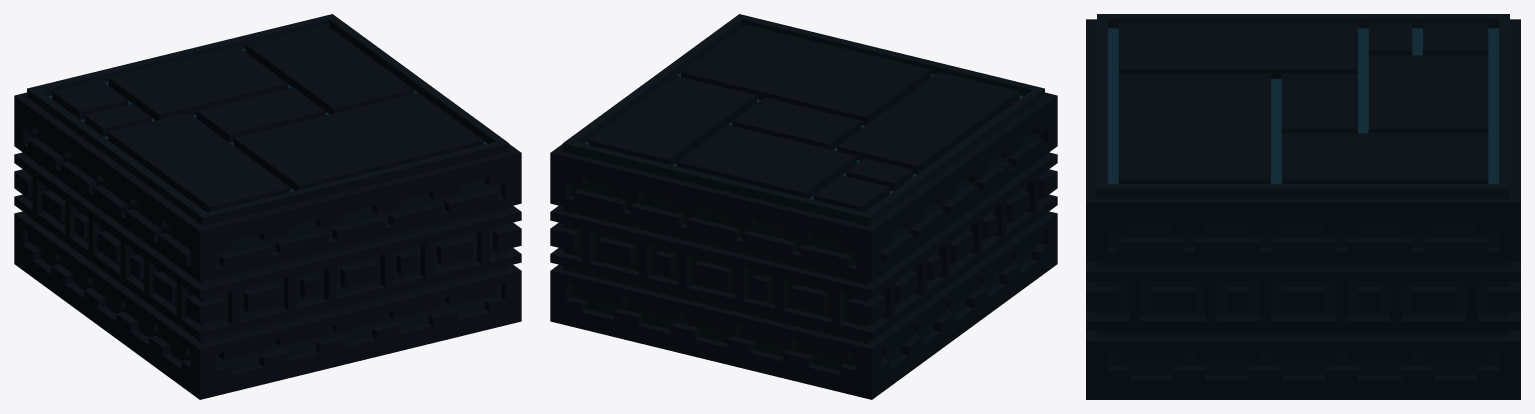
Rendered from Block_1.obj.
The picture shows the model from 3 angles, left to right: view 1: azimuth 30°, elevation 25°; view 2: azimuth 150°, elevation 25°; view 3: azimuth 270°, elevation 25°; orthographic projection. The views are drawn at different scales.
Bounding box in the file's own units: 1 × 0.525 × 1.
